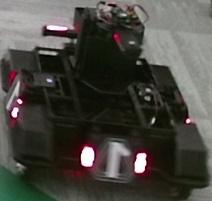armor_1: (81, 146, 147, 173)
